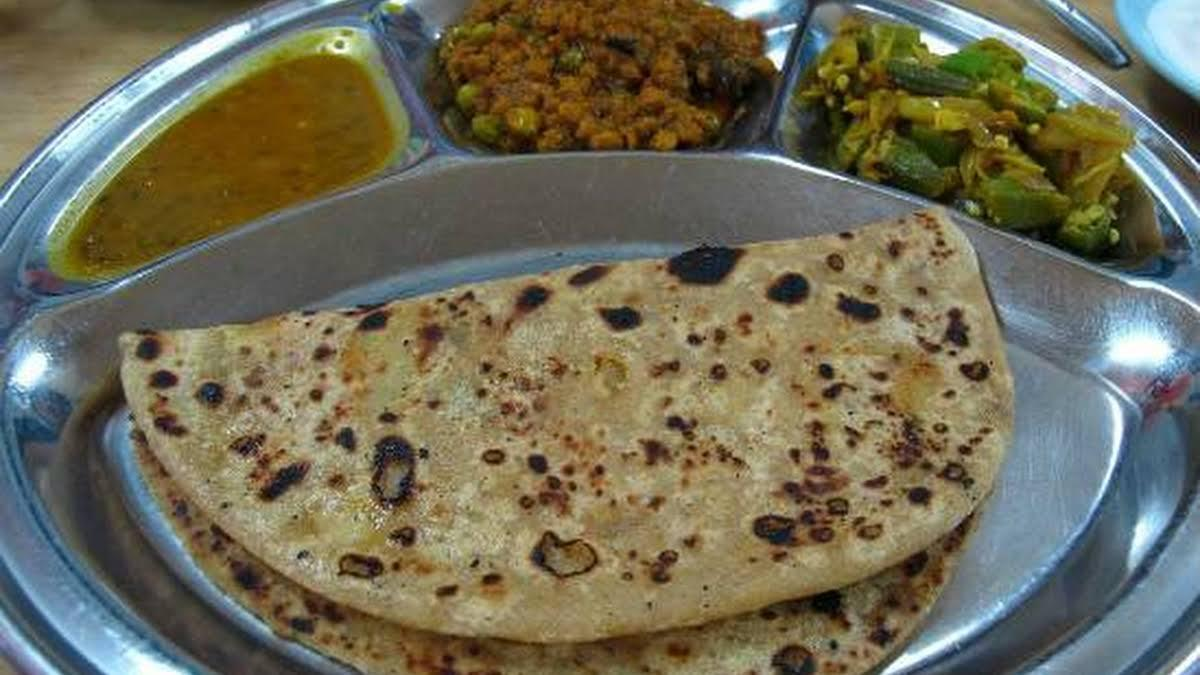chapati: (122, 211, 1012, 642)
